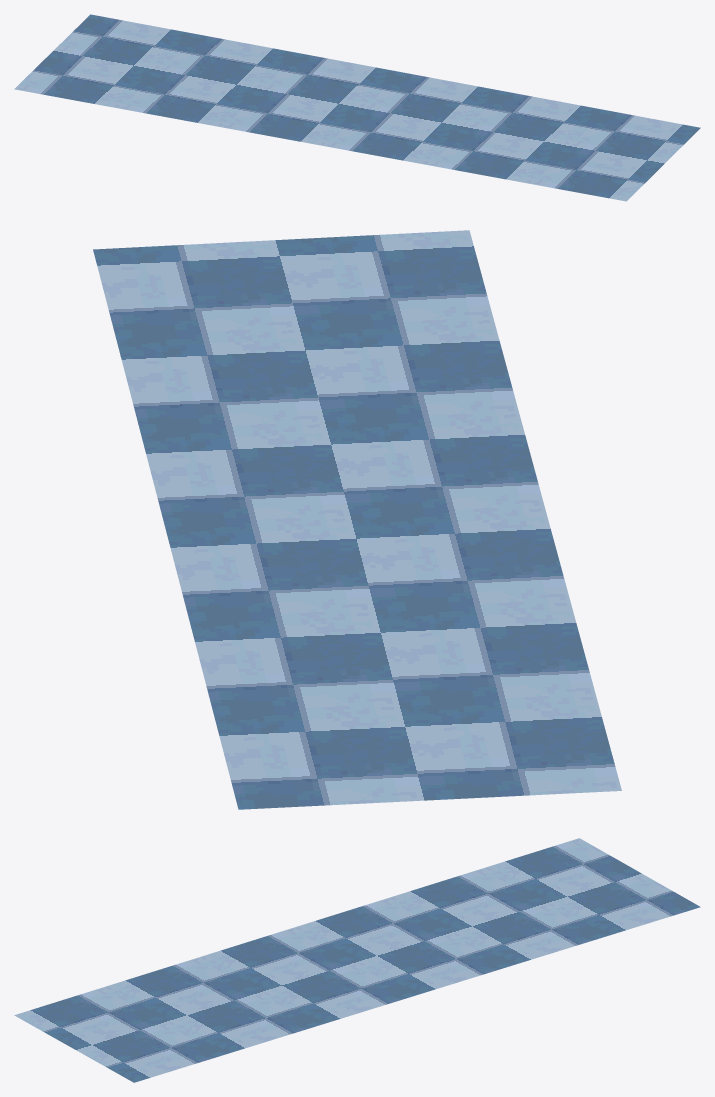
The model's file is object_29_lev2.glb.
3 views of the same model, one above another, from view 1: azimuth 30°, elevation 25°; view 2: azimuth 150°, elevation 25°; view 3: azimuth 270°, elevation 25° (orthographic). The views are drawn at different scales.
Visible parts, largest first — view 1: object_29_lev2; view 2: object_29_lev2; view 3: object_29_lev2.
Part boxes in pixels (left/top/right/bottom): object_29_lev2: left=14, top=14, right=700, bottom=201; object_29_lev2: left=93, top=230, right=621, bottom=809; object_29_lev2: left=14, top=838, right=700, bottom=1082.
Size of the model in its own units: 2.82 by 0 by 3.35.
Materials: 1 (1 with a texture image).
